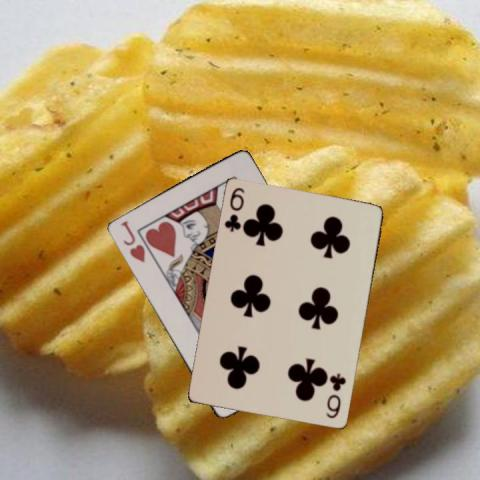6c: (221, 185, 246, 234), (323, 371, 347, 420)
Jh: (117, 218, 146, 264)
